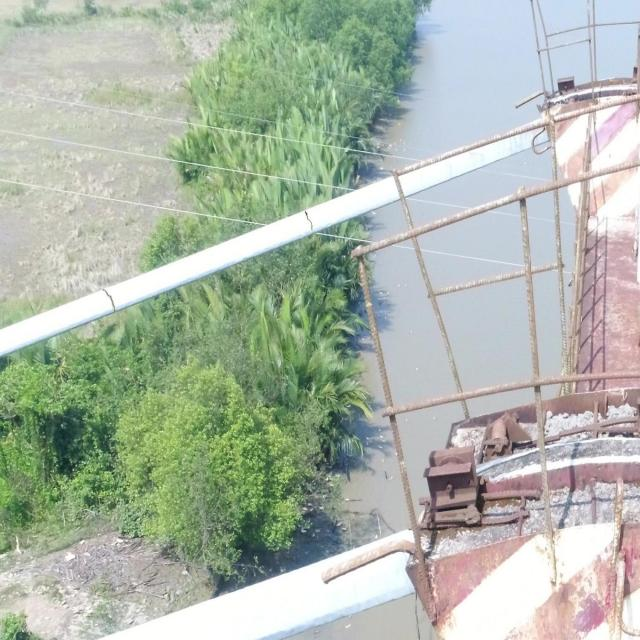crack: (102, 288, 116, 313), (304, 210, 314, 232)
